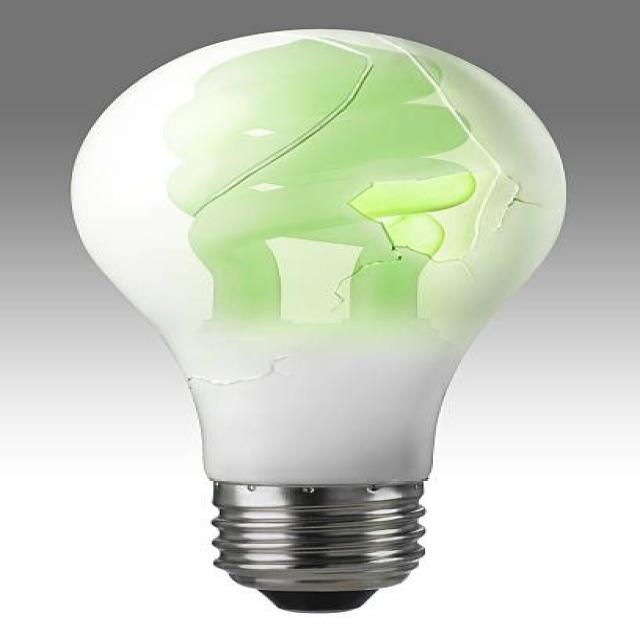electronic: (67, 27, 568, 614)
